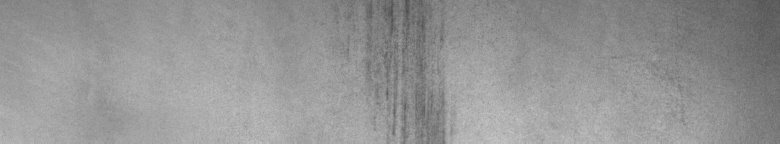ka: (359, 4, 452, 136)
